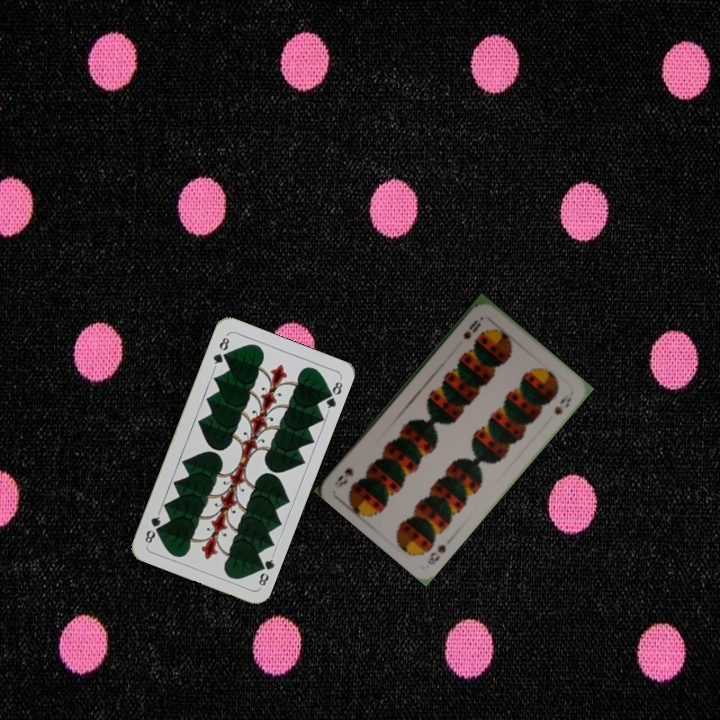G8: (209, 331, 232, 370), (253, 551, 277, 588)
S8: (423, 540, 449, 567), (459, 316, 483, 342)
